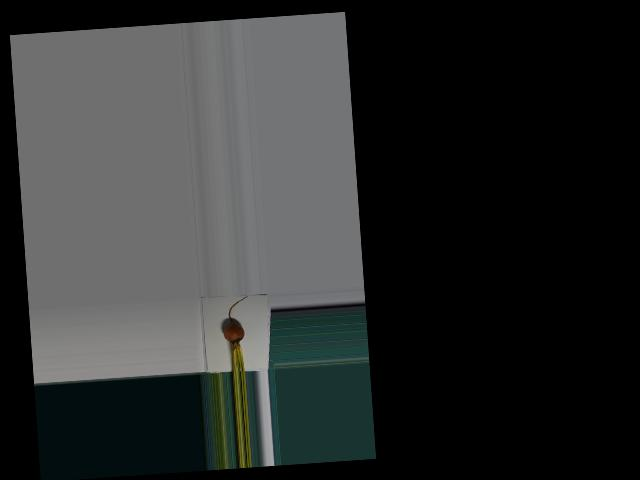beet: (221, 296, 252, 372)
